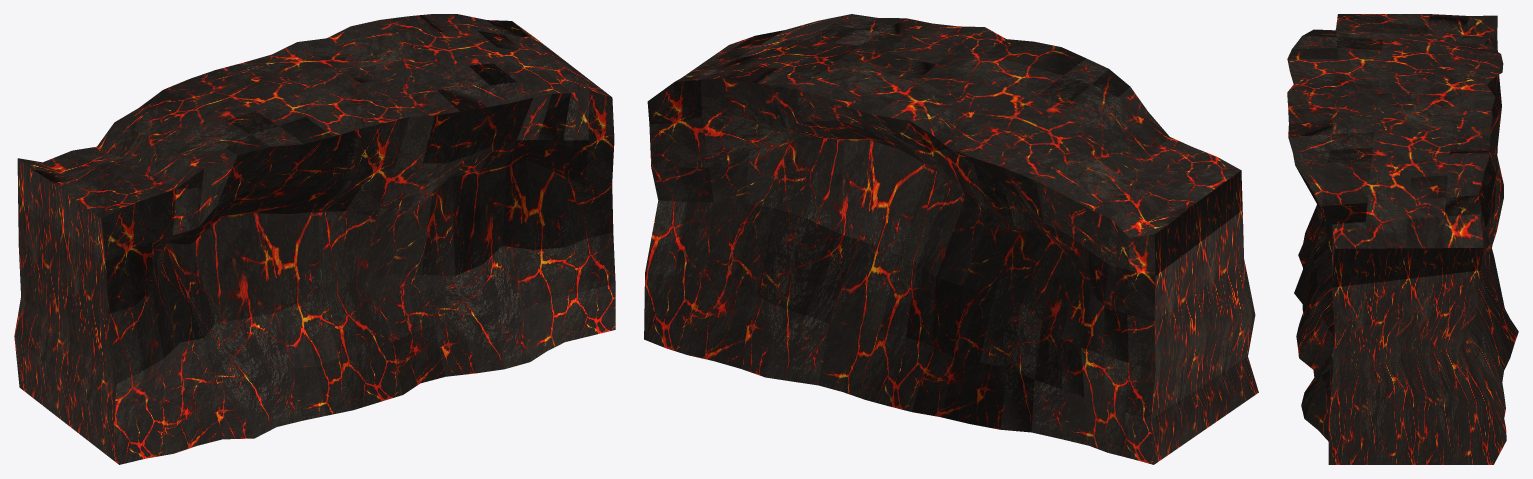
Rendered from Bridge1.fbx.
The picture shows the model from 3 angles, left to right: view 1: azimuth 30°, elevation 25°; view 2: azimuth 150°, elevation 25°; view 3: azimuth 270°, elevation 25°; orthographic projection. The views are drawn at different scales.
Parts seen in each view (by area): view 1: Cube; view 2: Cube; view 3: Cube.
Boxes of the visible parts, box(x1,y1,x2,y2) form: Cube: box(14, 14, 615, 464); Cube: box(644, 14, 1258, 464); Cube: box(1287, 14, 1518, 464).
Size of the model in its own units: 212 by 115 by 88.42.
Materials: 1 (1 with a texture image).
